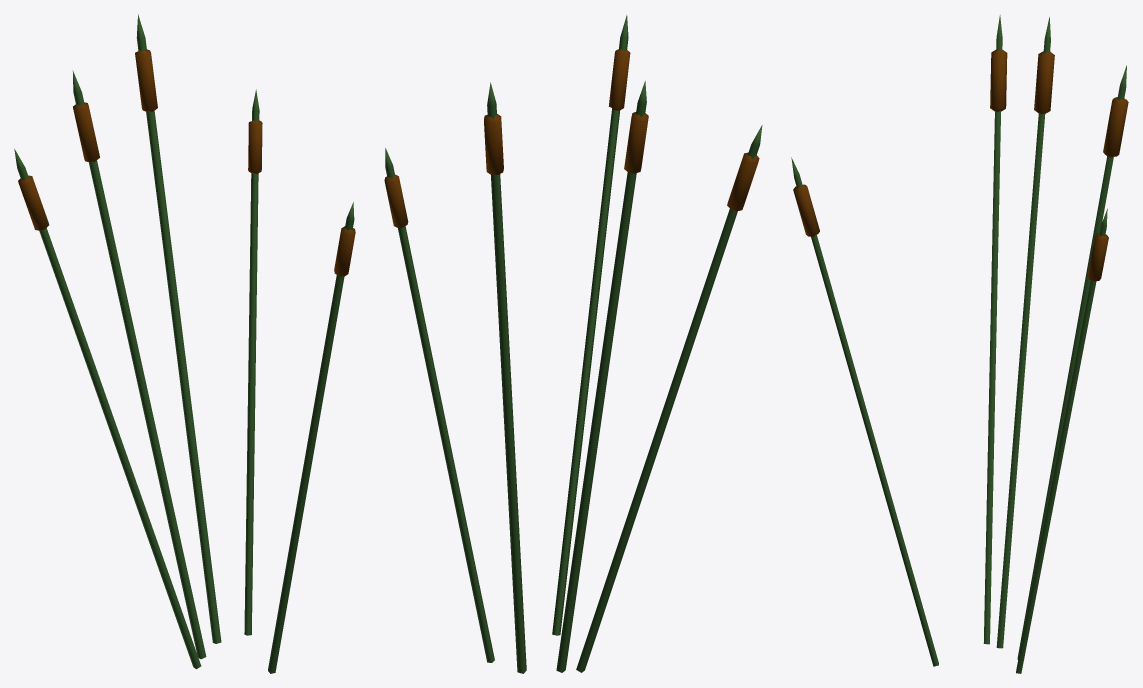
File: Tails_005.fbx
3 views of the same model, side by side, from view 1: azimuth 30°, elevation 25°; view 2: azimuth 150°, elevation 25°; view 3: azimuth 270°, elevation 25° (orthographic). The views are drawn at different scales.
Visible parts, largest first — view 1: Tails.005; view 2: Tails.005; view 3: Tails.005.
Part boxes in pixels (x1,y1,x2,y2): Tails.005: (14, 14, 355, 673); Tails.005: (384, 15, 762, 673); Tails.005: (791, 15, 1128, 673).
Bounding box in the file's own units: 18.92 × 36.12 × 18.83.
